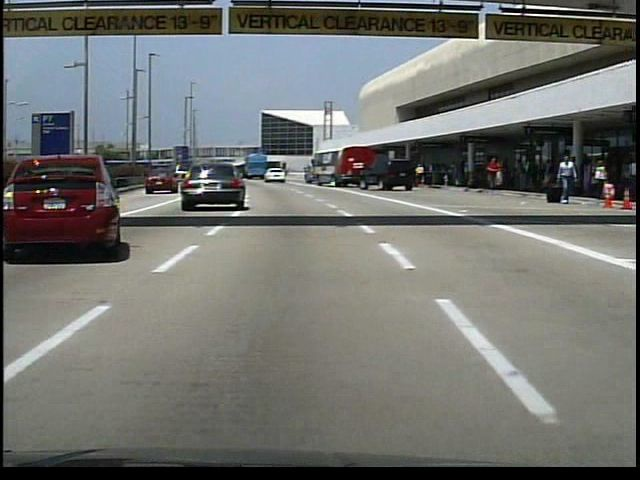person: (552, 152, 577, 203), (485, 155, 504, 189), (523, 154, 538, 189), (458, 157, 470, 186), (414, 163, 426, 188)
